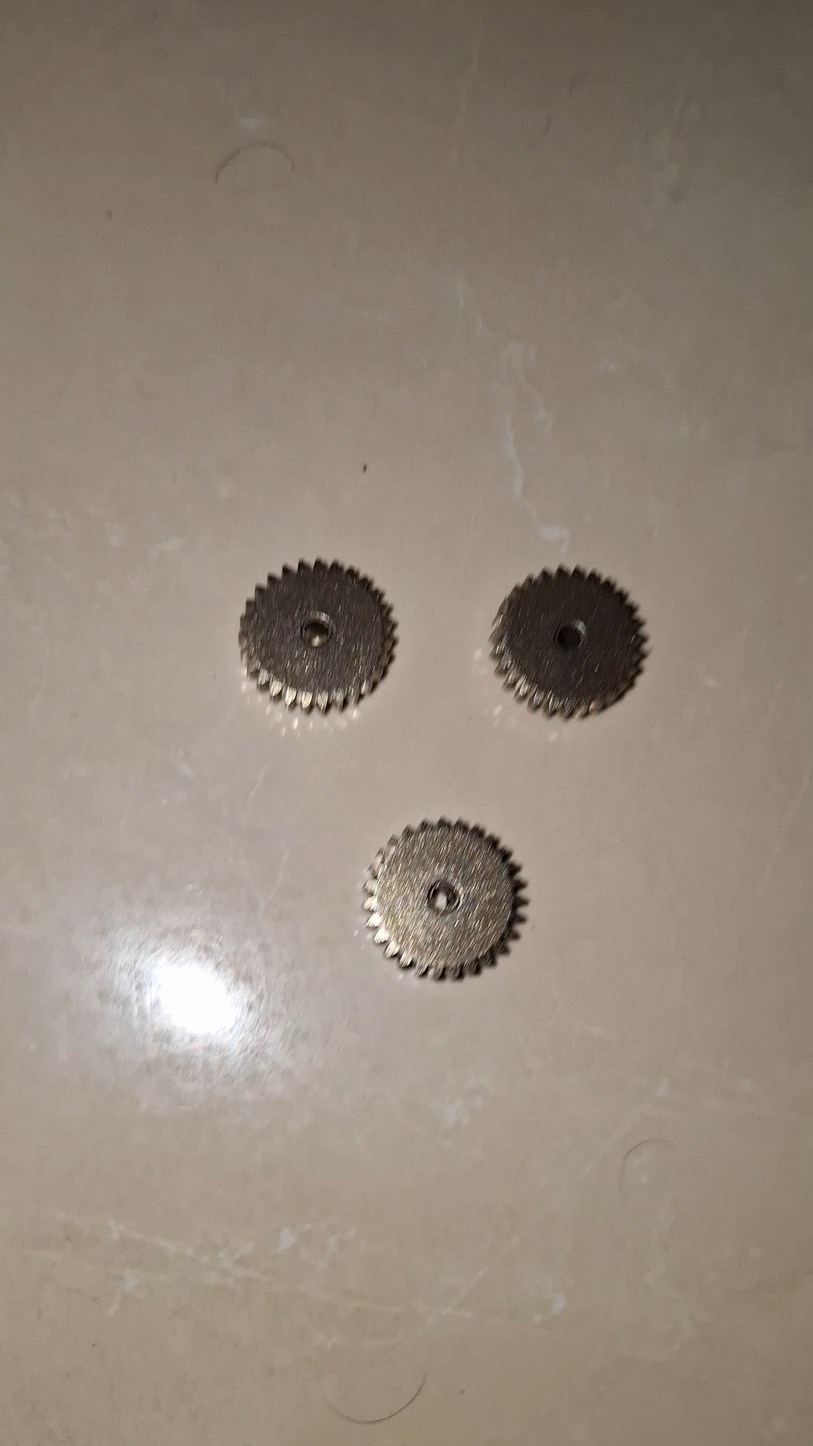spur gear: (364, 819, 523, 978), (239, 560, 394, 712), (491, 568, 646, 717)
